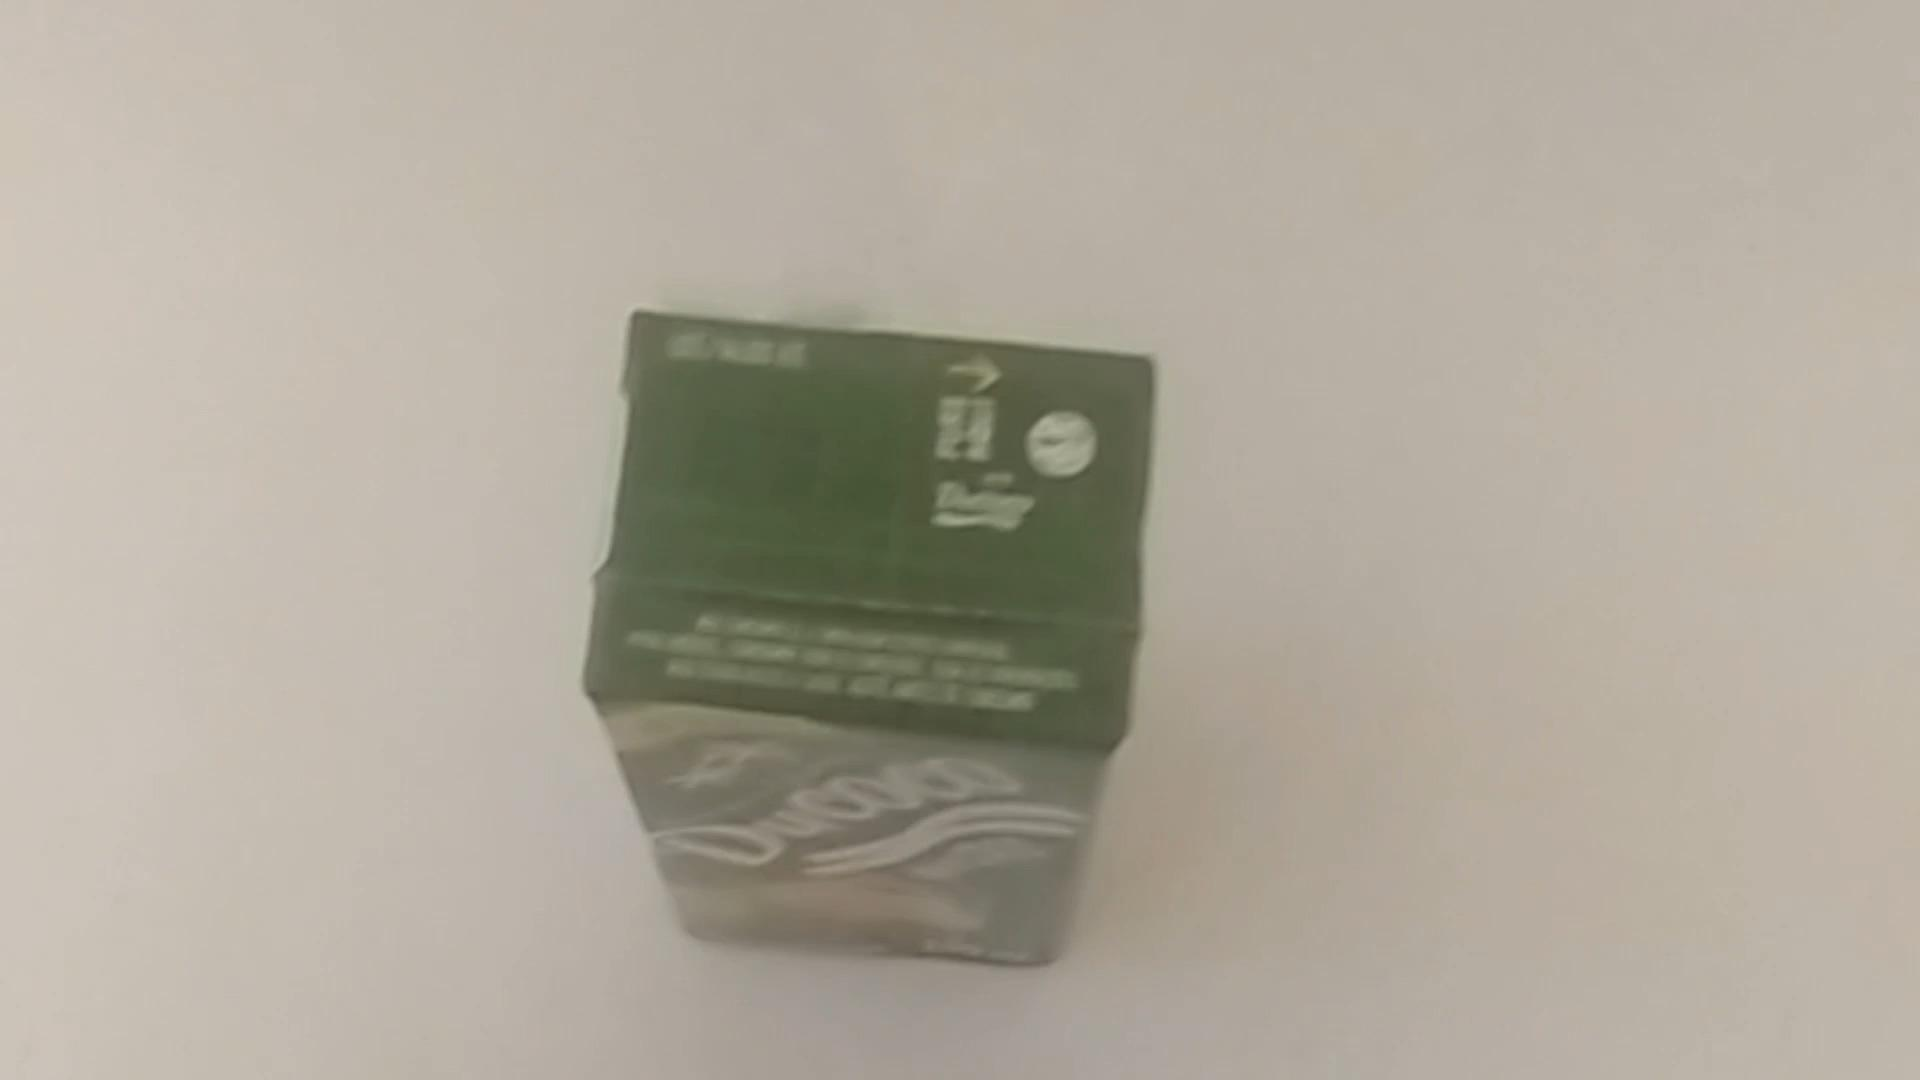coco: (580, 311, 1154, 976)
